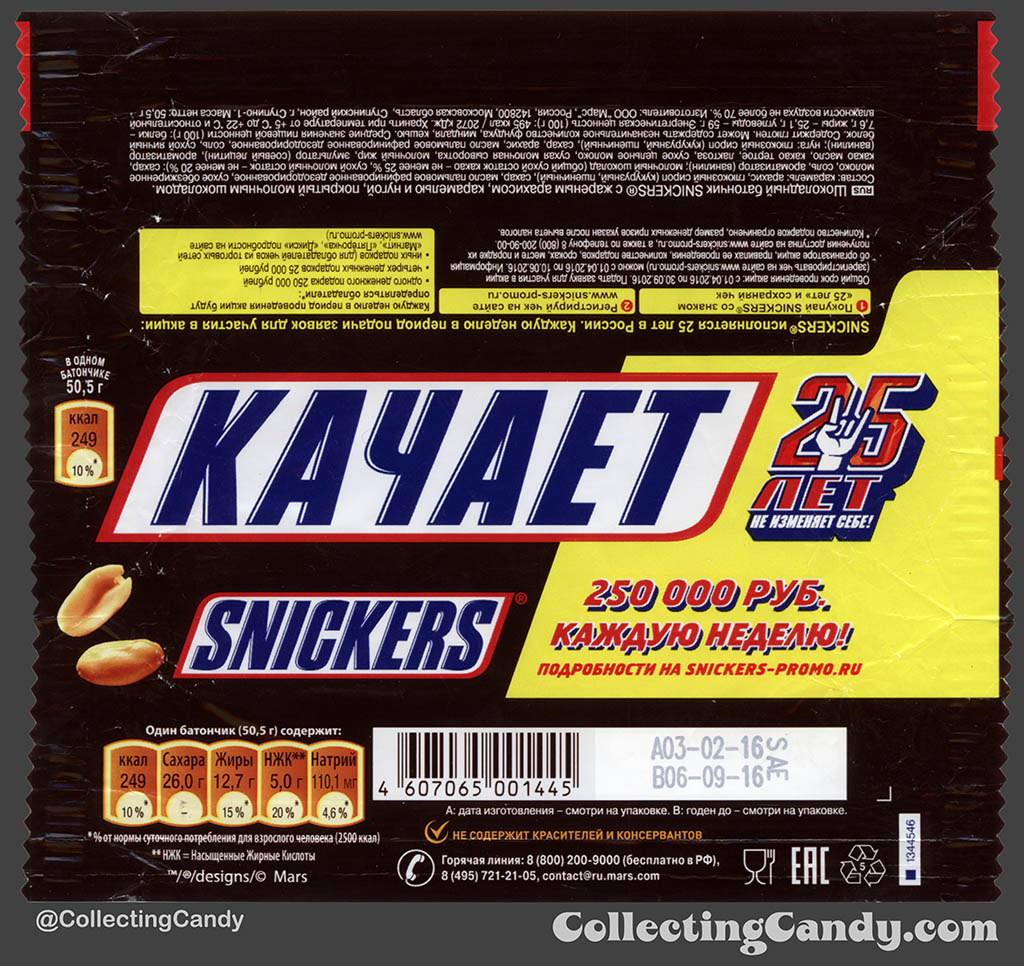snickers: (185, 600, 499, 673)
